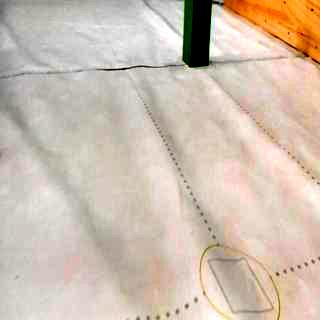greenbox: (183, 0, 212, 67)
